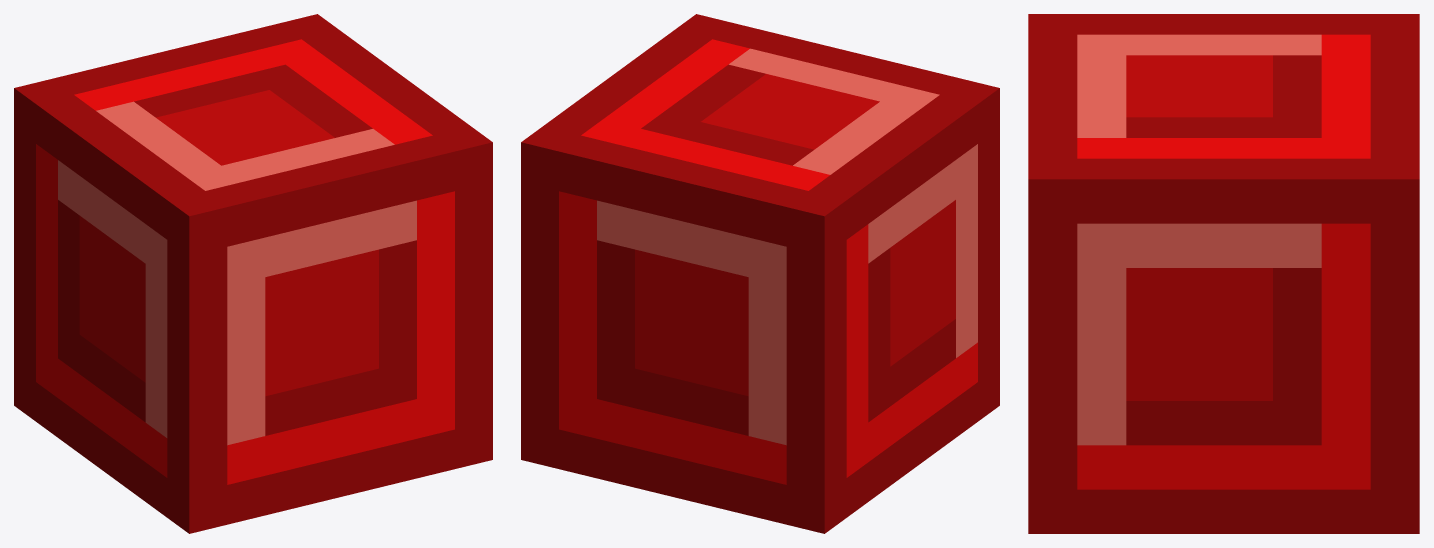
Rendered from cube_rouge.obj.
3 views of the same model, side by side, from view 1: azimuth 30°, elevation 25°; view 2: azimuth 150°, elevation 25°; view 3: azimuth 270°, elevation 25° (orthographic). The views are drawn at different scales.
Bounding box in the file's own units: 0.8 × 0.8 × 0.8.
Materials: 1 (1 with a texture image).
